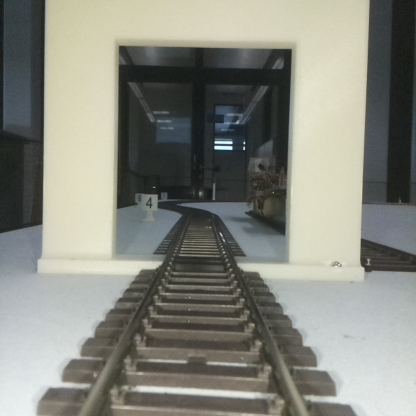white-stop-4: (140, 194, 157, 222)
